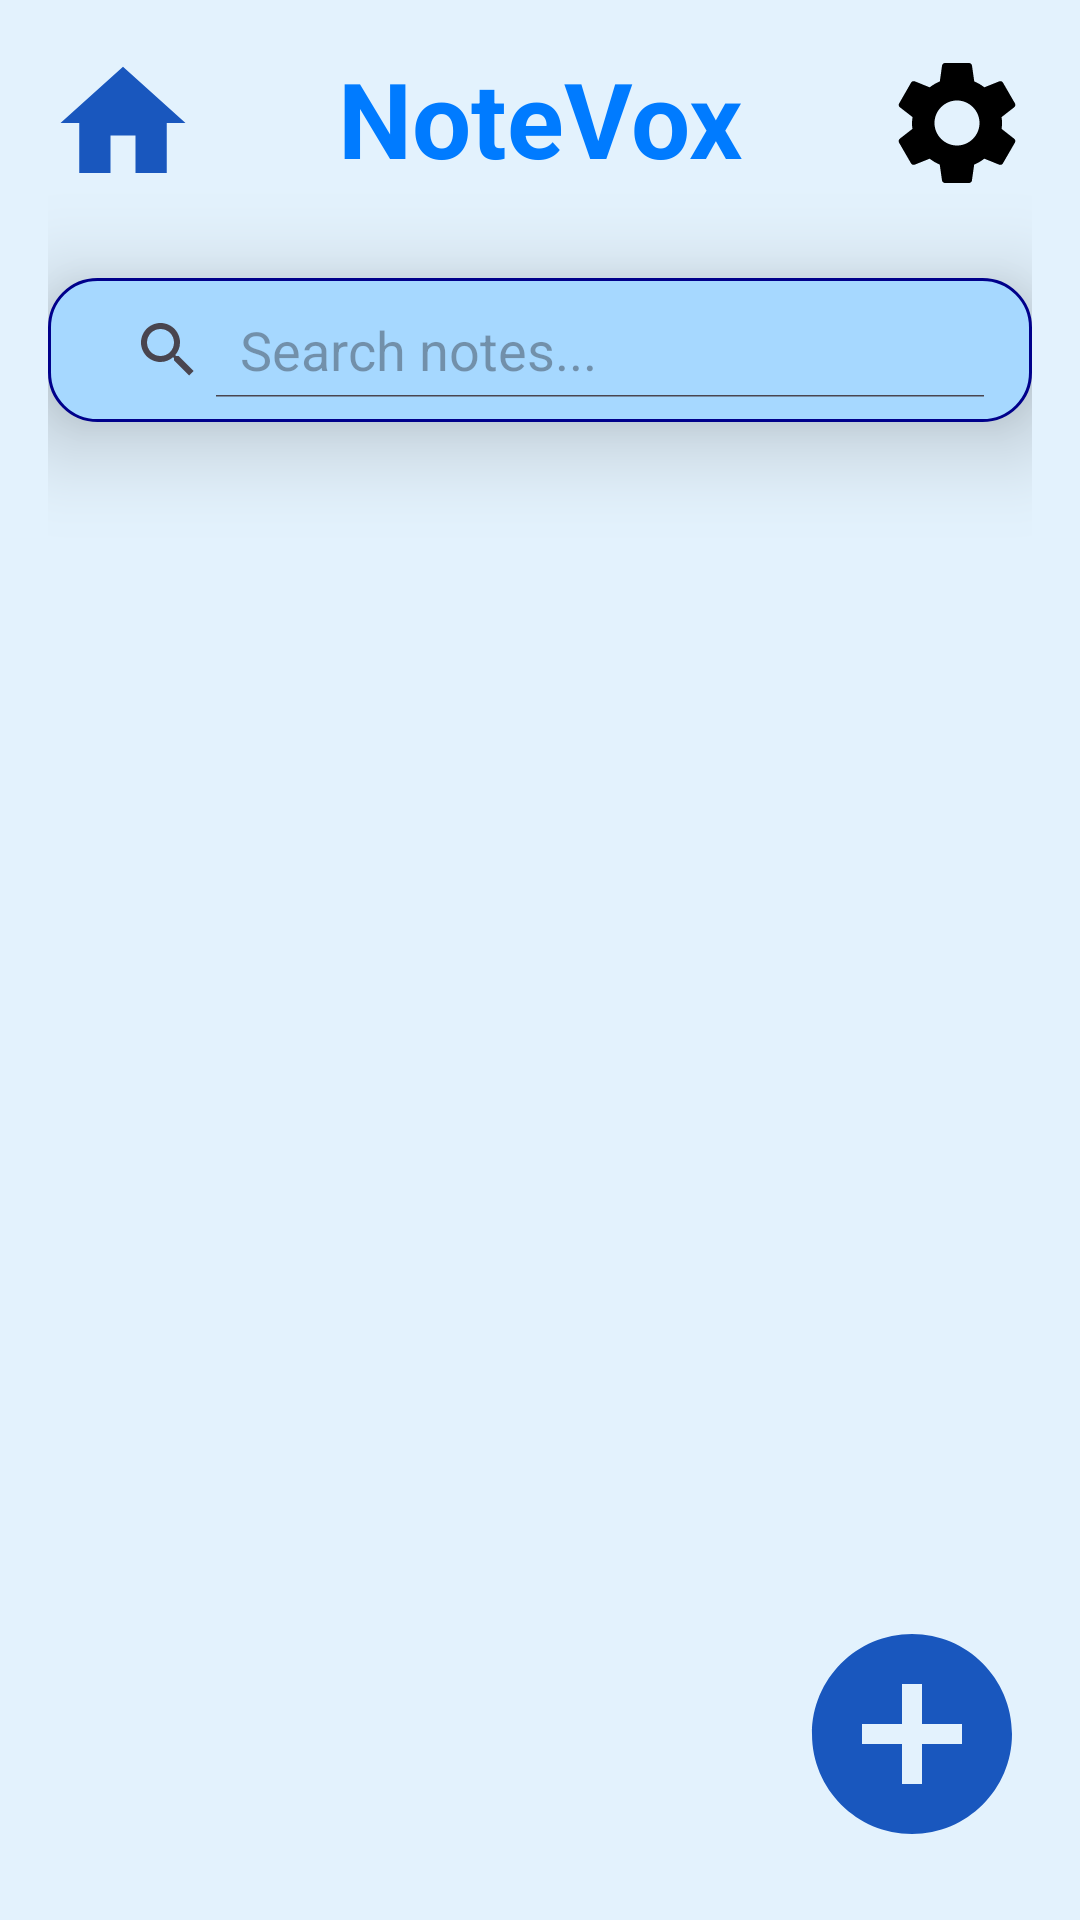

Screen size 1080x1920. Icon name, then its box in pixels as Rect(x1, y1, x2, y2):
Add a new note: Rect(812, 1634, 1012, 1834)
Go to the home page: Rect(61, 67, 185, 173)
Go to the setting page: Rect(898, 63, 1016, 183)
